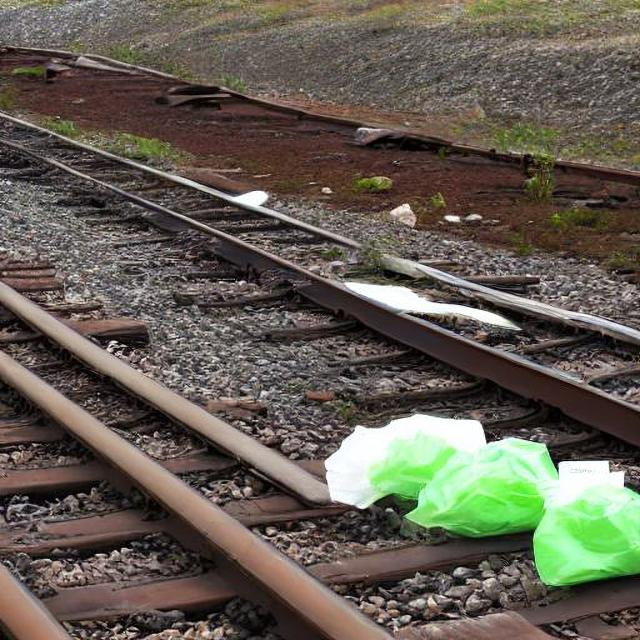plastic bag: (324, 402, 558, 542), (528, 454, 638, 586)
